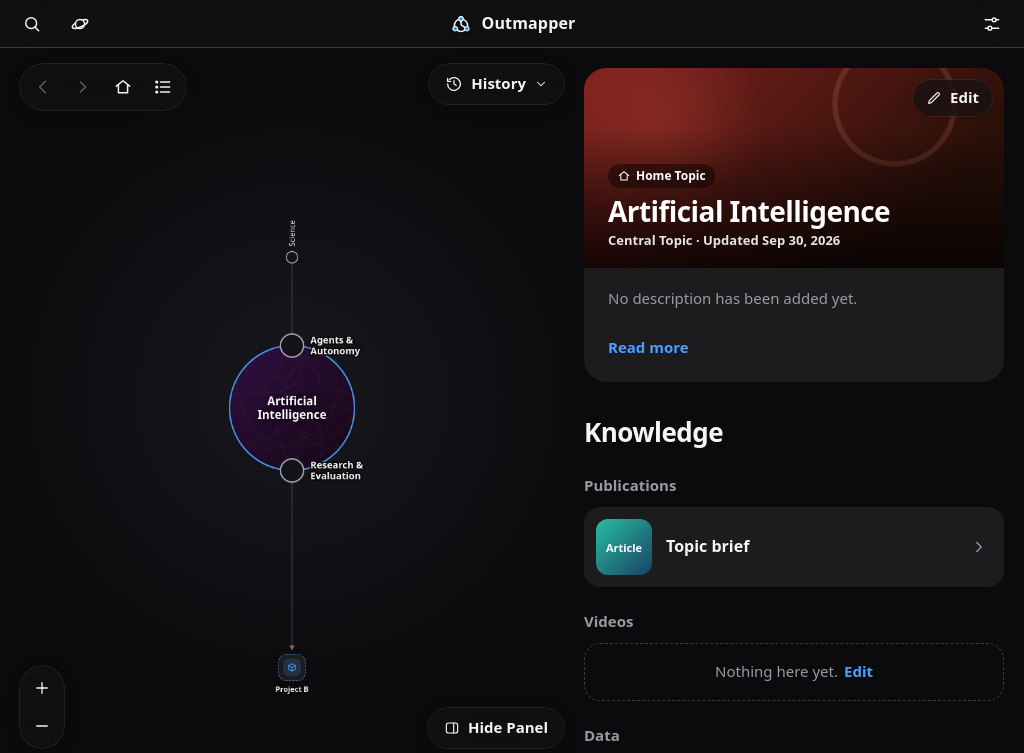
radial Map Viewer › opens an outgoing portal across Projects and returns through session Back
Click the button with aria-label "Linked Project: Project B, Connected via Agents & Autonomy". click: (292, 667)
box: [278, 654, 306, 681]
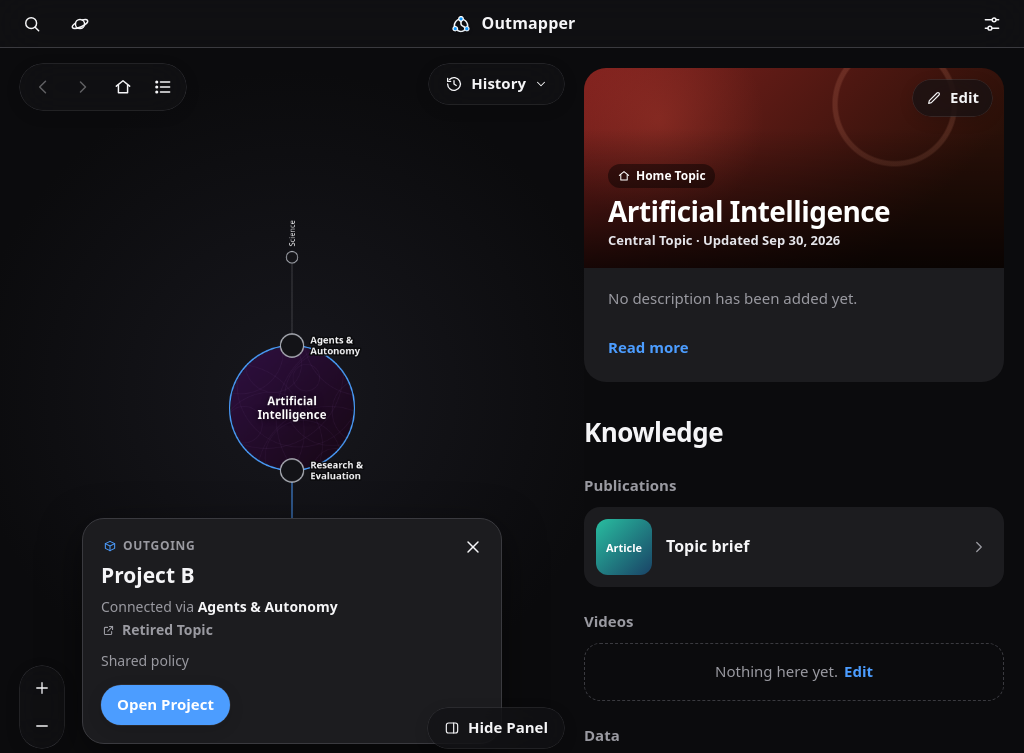
Expected: the text "Shared policy" is shown, [101, 651, 189, 670]
Click the button "Open Project". click: (165, 705)
box: [101, 685, 230, 725]
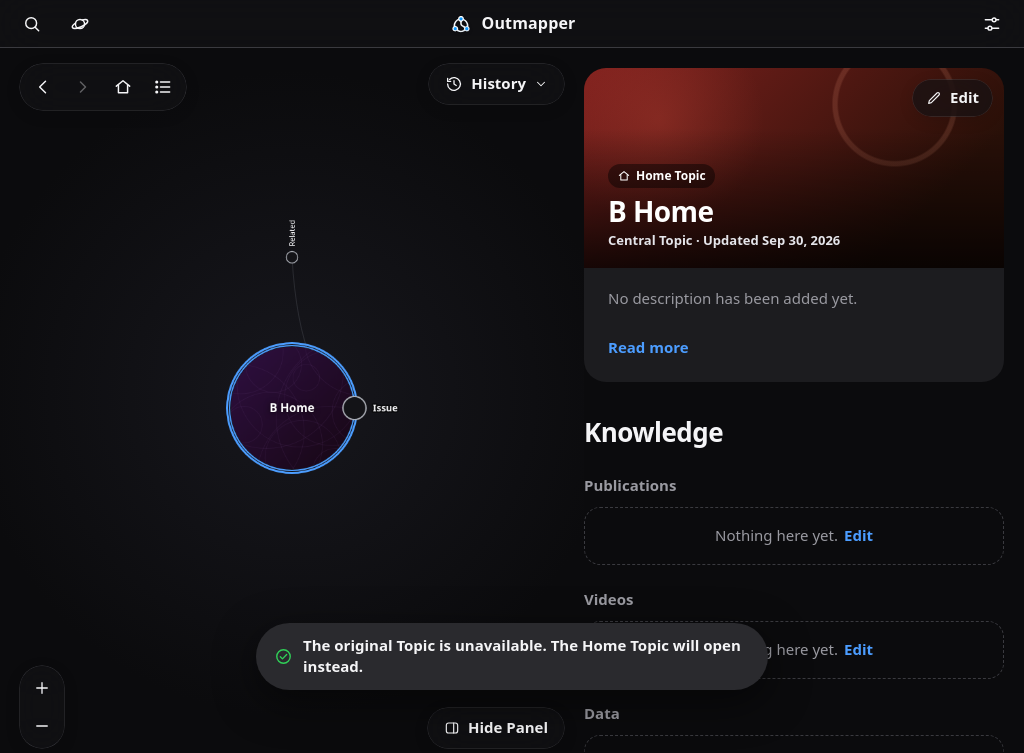
Expected: the button with aria-label "Central Topic: B Home" is shown, [230, 346, 354, 470]
Expected: the message reads "The original Topic is unavailable. The Home Topic will open instead.", [303, 634, 741, 676]
Click the button named "Back". click: (43, 87)
box: [23, 67, 63, 107]
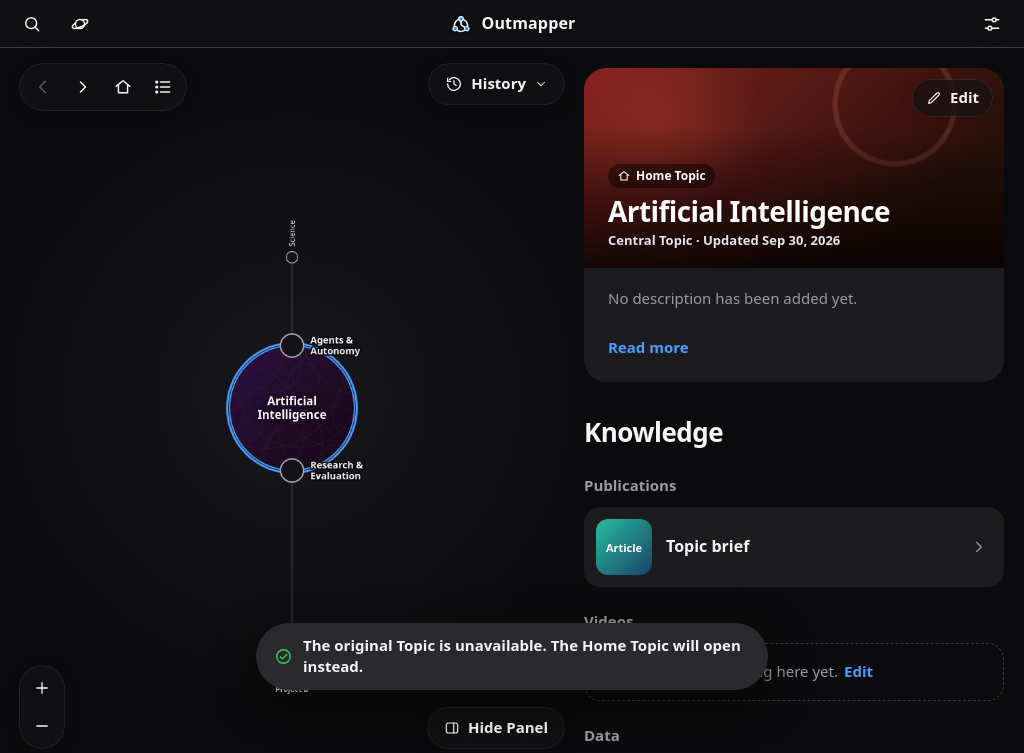
Expected: the button with aria-label "Central Topic: Artificial Intelligence" is shown, [230, 346, 354, 470]
Click the button named "Forward". click: (83, 87)
box: [63, 67, 103, 107]
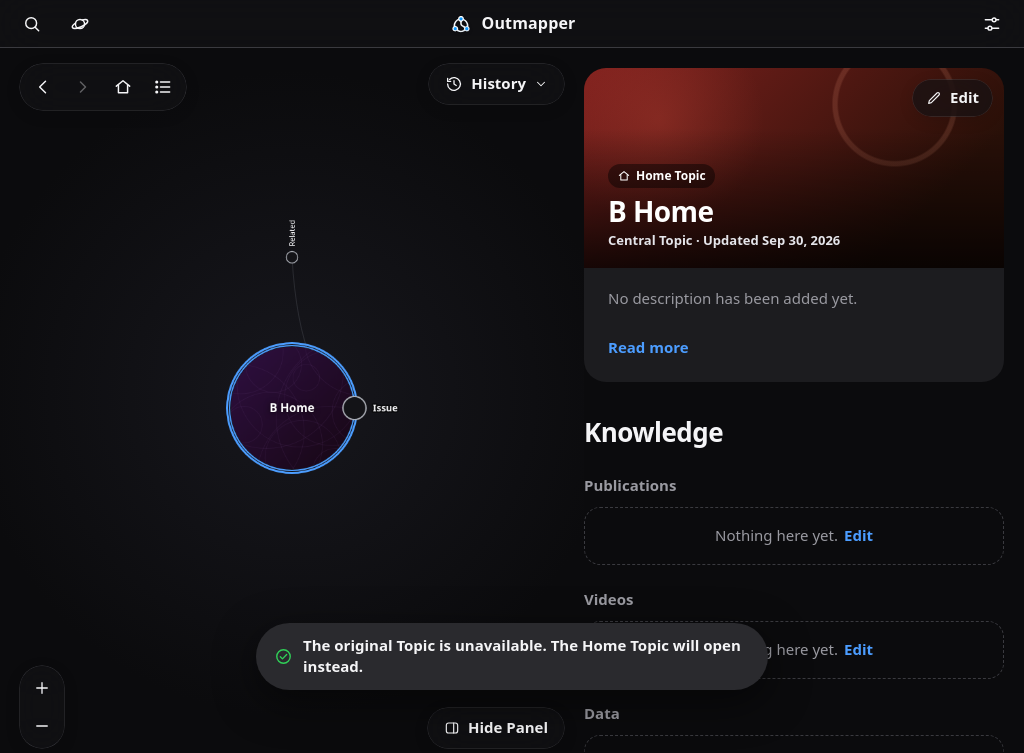
Expected: the button with aria-label "Central Topic: B Home" is shown, [230, 346, 354, 470]
Click the button named "Back". click: (43, 87)
box: [23, 67, 63, 107]
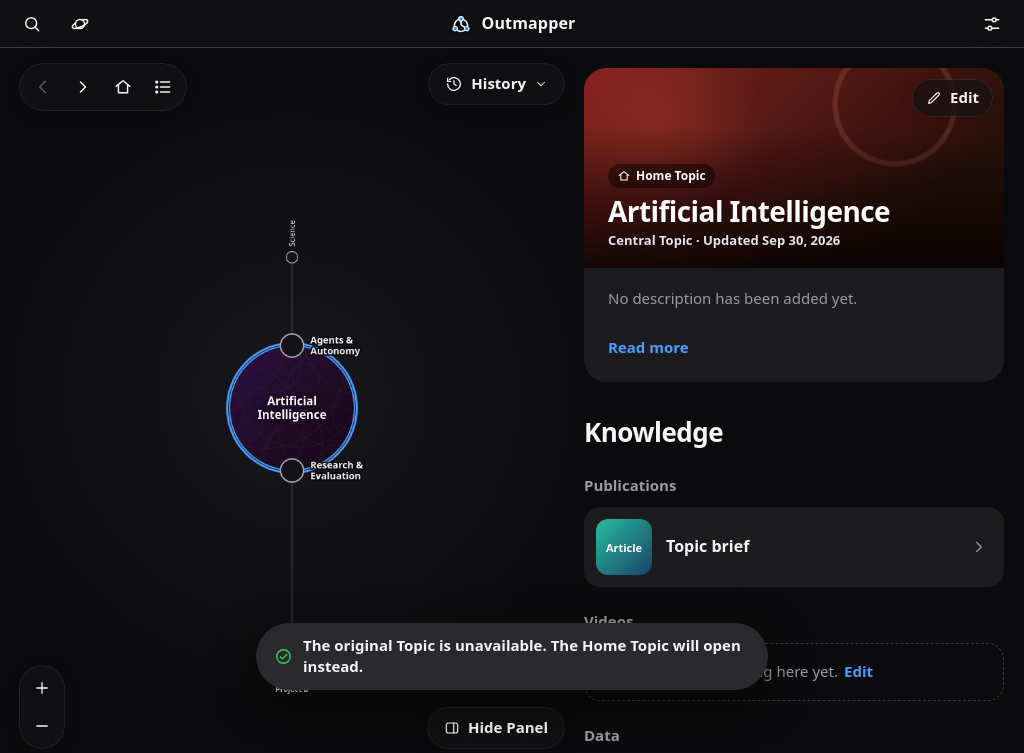
Expected: the button with aria-label "Central Topic: Artificial Intelligence" is shown, [230, 346, 354, 470]
